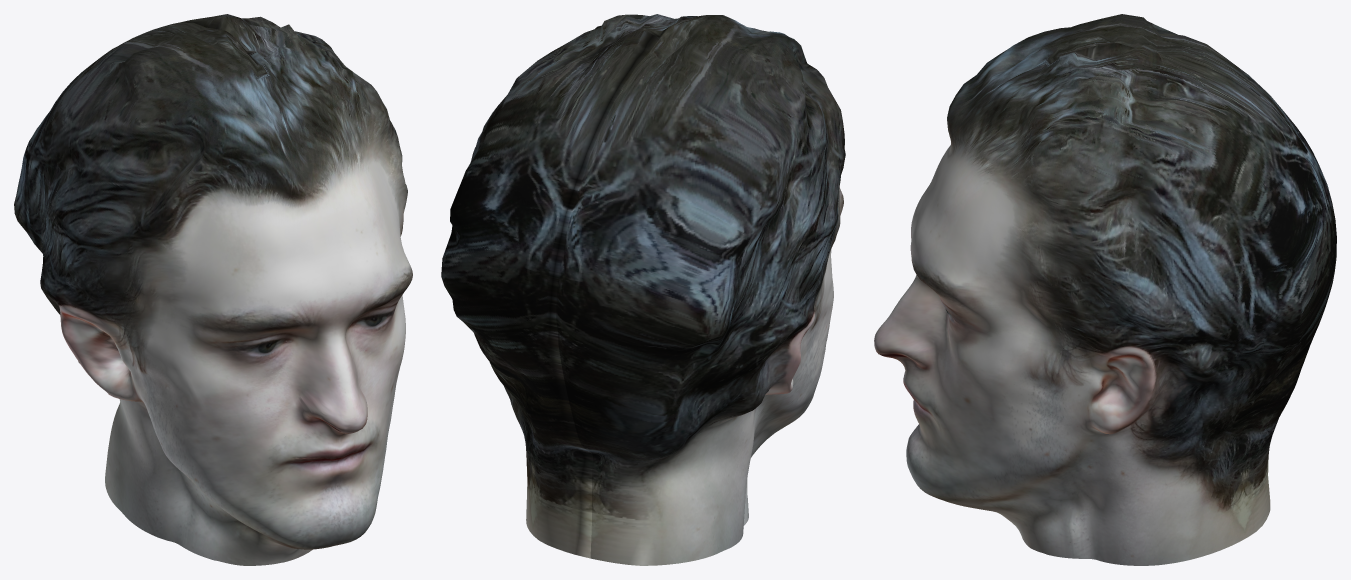
File: head3d.glb
The picture shows the model from 3 angles, left to right: view 1: azimuth 30°, elevation 25°; view 2: azimuth 150°, elevation 25°; view 3: azimuth 270°, elevation 25°; orthographic projection. The views are drawn at different scales.
Parts seen in each view (by area): view 1: Default; view 2: Default; view 3: Default.
Boxes of the visible parts, x1,y1,x2,y2 form: Default: (14, 14, 412, 565); Default: (441, 14, 845, 565); Default: (874, 14, 1336, 565).
Size of the model in its own units: 195 by 284 by 243.
Materials: 1 (1 with a texture image).
